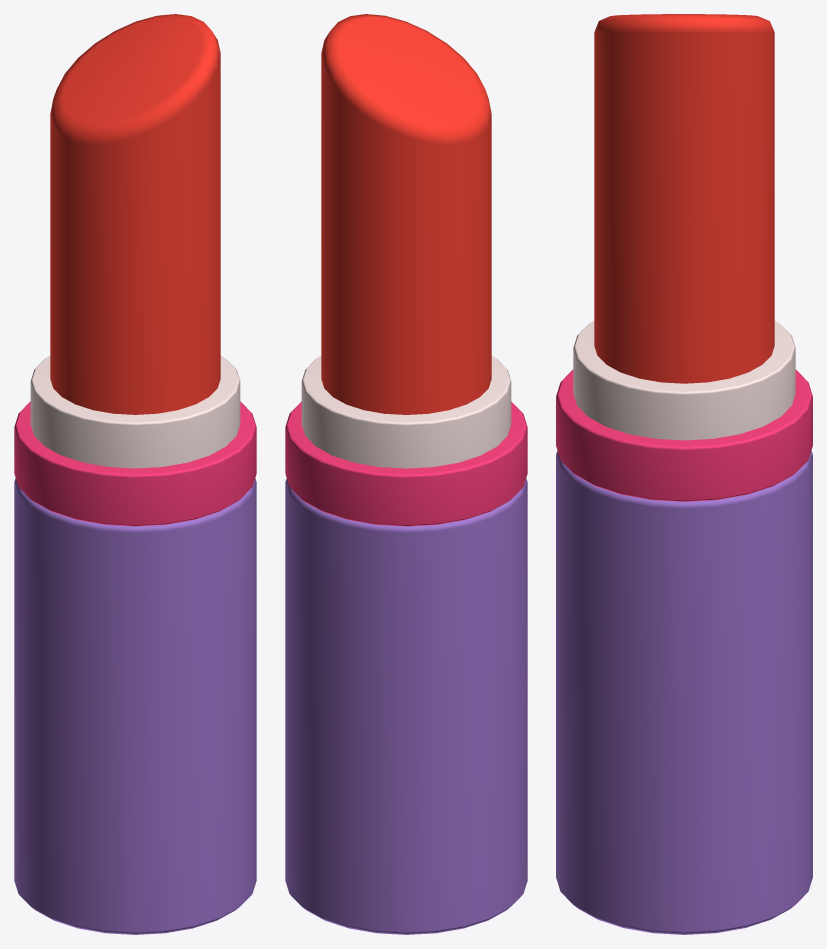
Rendered from Store_17_Lipstick_1.glb.
3 views of the same model, side by side, from view 1: azimuth 30°, elevation 25°; view 2: azimuth 150°, elevation 25°; view 3: azimuth 270°, elevation 25° (orthographic). The views are drawn at different scales.
Parts seen in each view (by area): view 1: Store_17_Lipstick_1; view 2: Store_17_Lipstick_1; view 3: Store_17_Lipstick_1.
Part boxes in pixels (left/top/right/bottom): Store_17_Lipstick_1: left=14, top=14, right=256, bottom=934; Store_17_Lipstick_1: left=285, top=14, right=527, bottom=934; Store_17_Lipstick_1: left=556, top=14, right=812, bottom=934.
Bounding box in the file's own units: 0.3385 × 1.31 × 0.3385.
1 material, 1 textured.
